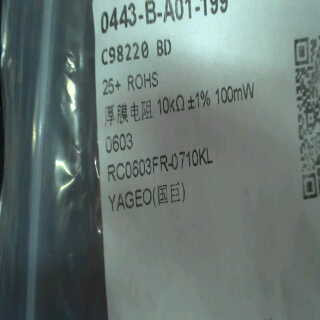10kR: (155, 93, 187, 118)
